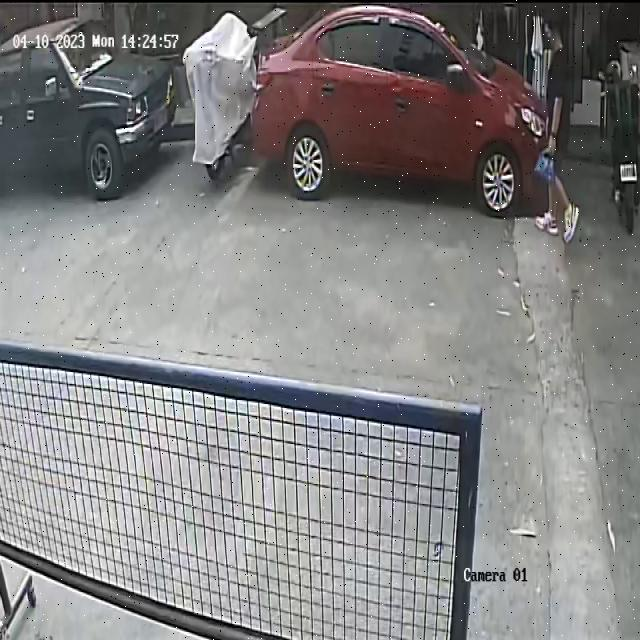garbage_dumping: (532, 146, 558, 183)
